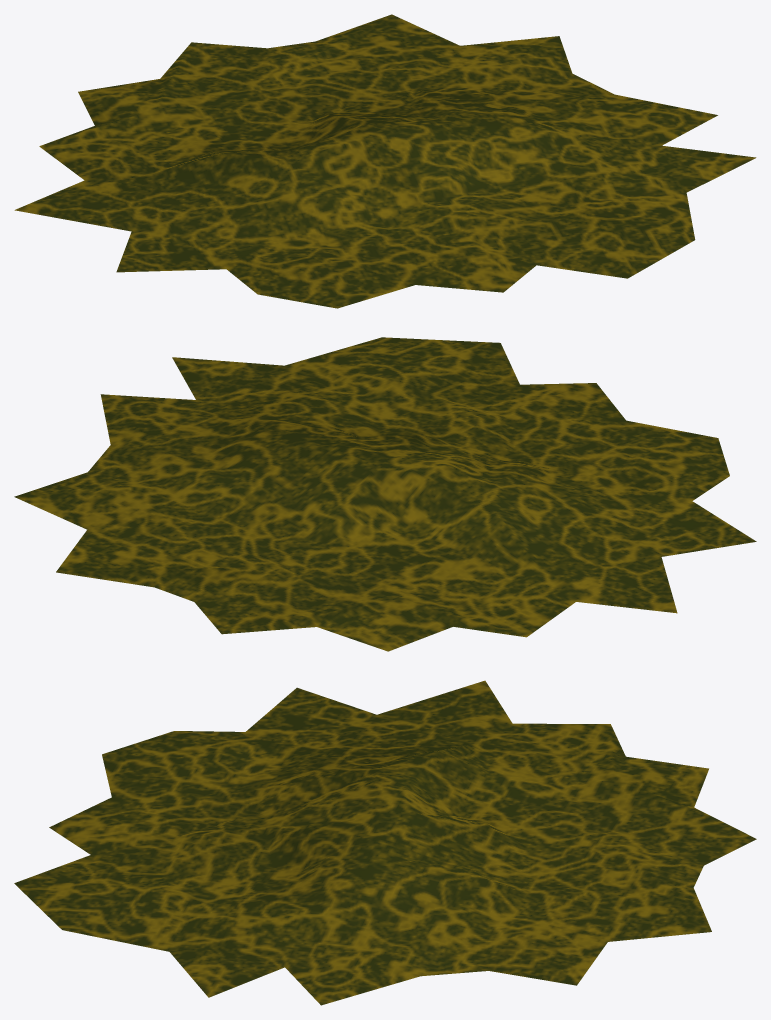
Rendered from Moss2.fbx.
3 views of the same model, one above another, from view 1: azimuth 30°, elevation 25°; view 2: azimuth 150°, elevation 25°; view 3: azimuth 270°, elevation 25° (orthographic). The views are drawn at different scales.
Visible parts, largest first — view 1: Moss2; view 2: Moss2; view 3: Moss2.
Boxes of the visible parts, bbox=[...] form: Moss2: bbox=[14, 14, 756, 308]; Moss2: bbox=[14, 337, 756, 651]; Moss2: bbox=[14, 680, 756, 1005].
Size of the model in its own units: 2.14 by 0.1197 by 2.07.
